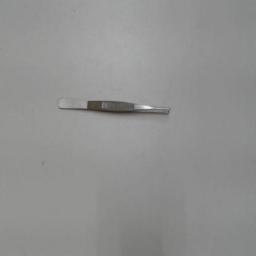Gillies Toothed Dissector: (54, 90, 176, 118)
